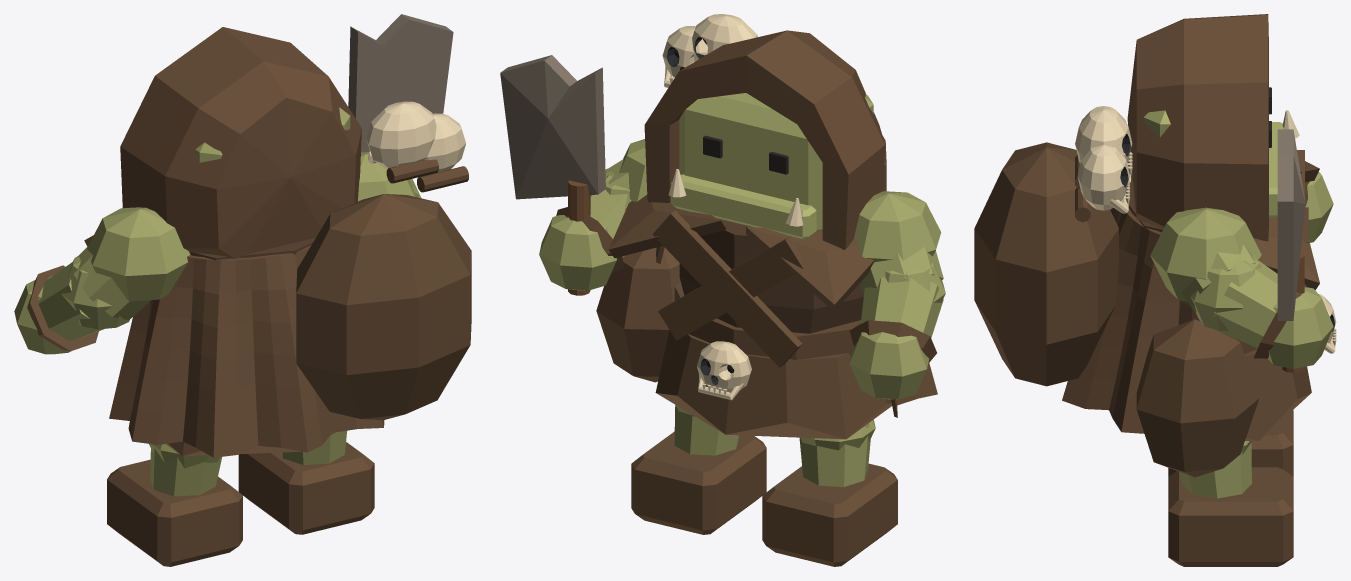
File: host_01.glb
The picture shows the model from 3 angles, left to right: view 1: azimuth 30°, elevation 25°; view 2: azimuth 150°, elevation 25°; view 3: azimuth 270°, elevation 25°; orthographic projection. The views are drawn at different scales.
Visible parts, largest first — view 1: V6 source fitted domed cloth hood, Real rear cape, Scavenger actual heavy rear sack, Grounded boot L, V6 source jagged rusty forged cleaver whole blade, Grounded boot R, Connected shoulder L, V6 scavenger rear sack actual ivory skull actual carved cran (×2), Lower leg L, Forearm L, Upper arm L, Elbow contacting articulated joint L (+9 smaller); view 2: V6 source fitted domed cloth hood, Leather ragged skirt, V6 source jagged rusty forged cleaver whole blade, Observed face, Grounded boot L, Grounded boot R, Heavy attached loot pouch, Crossed leather baldric R, Tailored continuous bodice, Connected shoulder L, Orc broad jaw, Shoulder folded cape (+19 smaller); view 3: V6 source fitted domed cloth hood, Scavenger actual heavy rear sack, Heavy attached loot pouch, Real rear cape, Grounded boot R, Connected shoulder R, V6 scavenger rear sack actual ivory skull actual carved cran (×2), V6 source jagged rusty forged cleaver whole blade, Grasping hand R, Leather ragged skirt, Forearm R, Elbow contacting articulated joint R (+8 smaller).
Boxes of the visible parts, box(x1,y1,x2,y2) form: V6 source fitted domed cloth hood: box(120, 27, 361, 258); Real rear cape: box(109, 245, 384, 457); Scavenger actual heavy rear sack: box(296, 194, 471, 420); Grounded boot L: box(107, 459, 242, 566); V6 source jagged rusty forged cleaver whole blade: box(348, 14, 453, 152); Grounded boot R: box(238, 442, 374, 534); Connected shoulder L: box(87, 207, 190, 301); V6 scavenger rear sack actual ivory skull actual carved cran (×2): box(366, 101, 465, 172); Lower leg L: box(150, 448, 221, 496); Forearm L: box(38, 262, 103, 341); Upper arm L: box(73, 246, 151, 319); Elbow contacting articulated joint L: box(61, 256, 129, 329); V6 source fitted domed cloth hood: box(644, 30, 884, 249); Leather ragged skirt: box(655, 330, 892, 439); V6 source jagged rusty forged cleaver whole blade: box(500, 55, 605, 199); Observed face: box(679, 93, 873, 231); Grounded boot L: box(762, 463, 897, 566); Grounded boot R: box(631, 431, 766, 534); Heavy attached loot pouch: box(596, 247, 680, 382); Crossed leather baldric R: box(652, 210, 802, 367); Tailored continuous bodice: box(679, 218, 863, 333); Connected shoulder L: box(854, 191, 941, 262); Orc broad jaw: box(671, 174, 816, 239); Shoulder folded cape: box(746, 227, 874, 311); V6 source fitted domed cloth hood: box(1127, 14, 1268, 241); Scavenger actual heavy rear sack: box(974, 142, 1118, 386); Heavy attached loot pouch: box(1136, 319, 1259, 477); Real rear cape: box(1062, 171, 1199, 433); Grounded boot R: box(1168, 467, 1293, 566); Connected shoulder R: box(1150, 207, 1261, 301); V6 scavenger rear sack actual ivory skull actual carved cran (×2): box(1075, 106, 1132, 210); V6 source jagged rusty forged cleaver whole blade: box(1277, 129, 1305, 320); Grasping hand R: box(1268, 287, 1333, 368); Leather ragged skirt: box(1244, 349, 1311, 440); Forearm R: box(1212, 260, 1277, 348); Elbow contacting articulated joint R: box(1190, 254, 1261, 330).
Size of the model in its own units: 1.35 by 1.46 by 0.9533.
